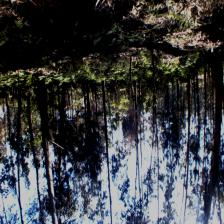trunktrack_idkeyframe: (36, 81, 52, 172), (209, 64, 222, 172), (102, 80, 108, 154), (60, 84, 68, 124), (17, 87, 23, 137), (27, 96, 33, 138)
